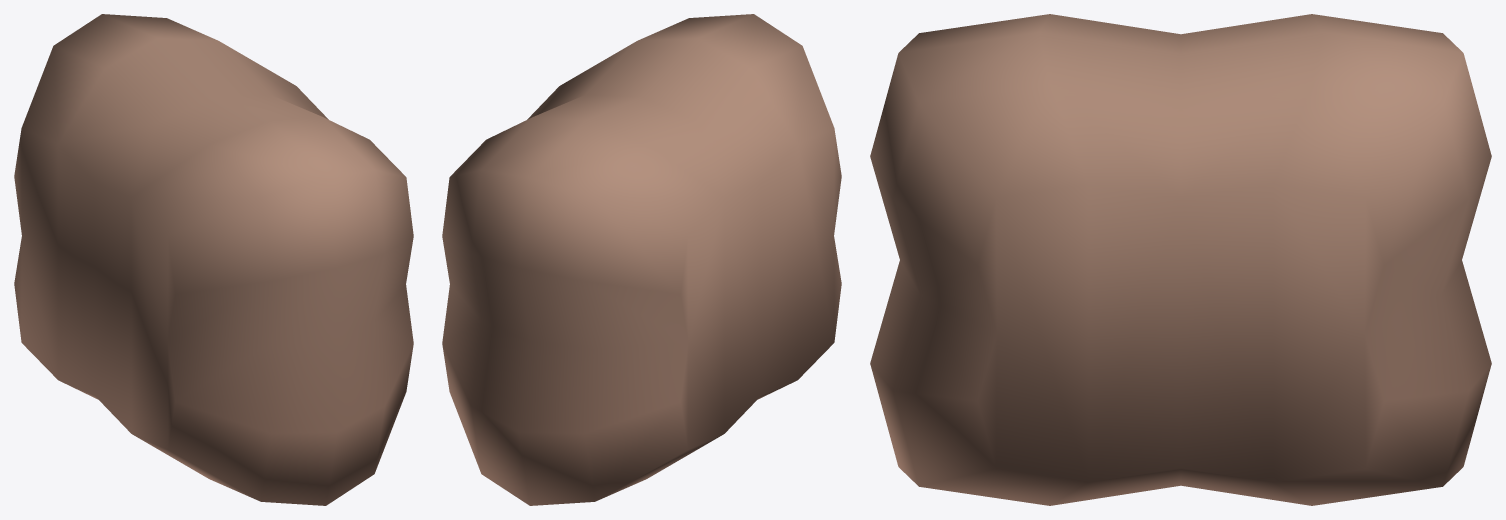
File: pillow-fluffy-wide.glb
3 renders of one model, left to right at view 1: azimuth 30°, elevation 25°; view 2: azimuth 150°, elevation 25°; view 3: azimuth 270°, elevation 25°, orthographic. The views are drawn at different scales.
Parts seen in each view (by area): view 1: pillow-fluffy-wide; view 2: pillow-fluffy-wide; view 3: pillow-fluffy-wide.
Part boxes in pixels (box(x1,y1,x2,y2)): pillow-fluffy-wide: box(14, 14, 413, 505); pillow-fluffy-wide: box(442, 14, 841, 505); pillow-fluffy-wide: box(870, 14, 1491, 505).
Bounding box in the file's own units: 0.2539 × 0.3672 × 0.4545.
